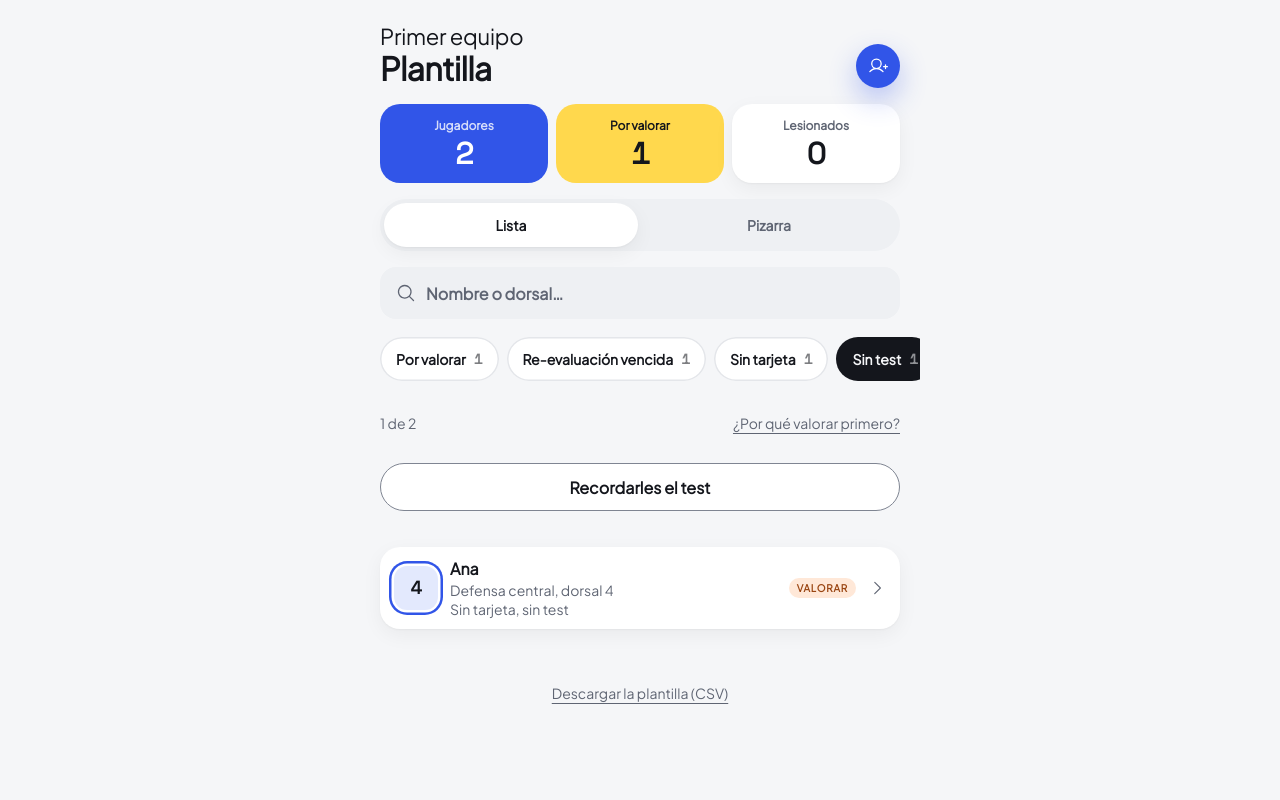
Test case: SquadPage › con el filtro "Sin test", el cuerpo técnico se lo recuerda a los que faltan
Click the button "Recordarles el test".
click(640, 487)  # box x1=380 y1=463 x2=900 y2=511
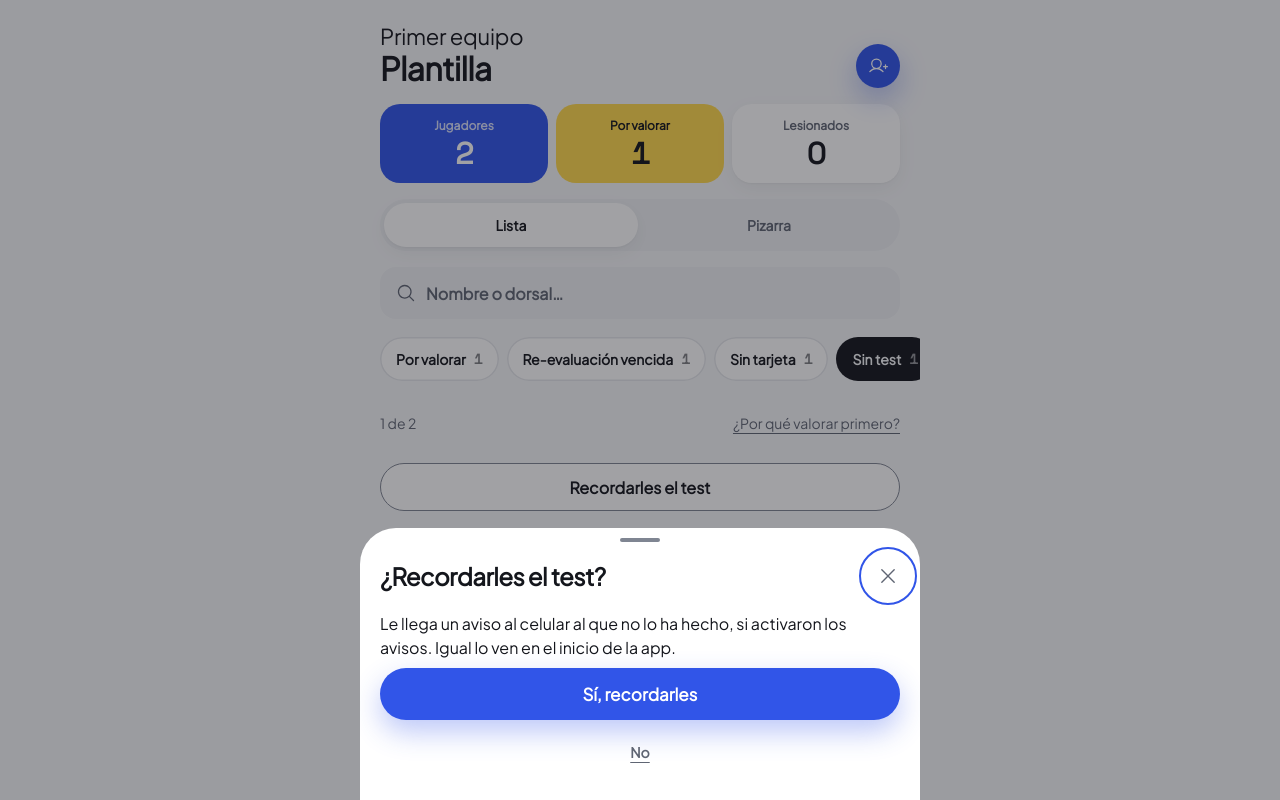
Result: the text "Le llega un aviso al celular al que no lo ha hecho" is shown at x1=380 y1=612 x2=900 y2=660
Click the button "Sí, recordarles".
click(640, 694)  # box x1=380 y1=668 x2=900 y2=720
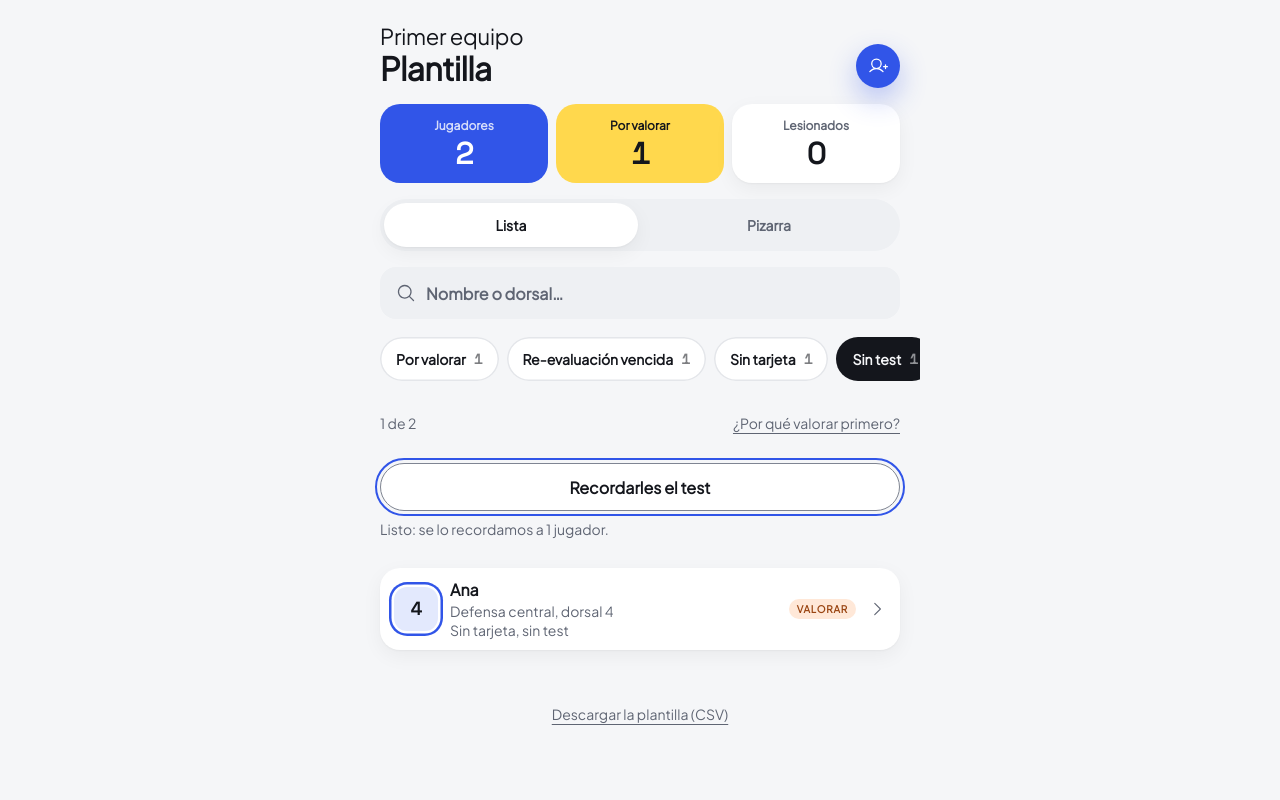
Result: the text "Listo: se lo recordamos a 1 jugador." is shown at x1=380 y1=520 x2=609 y2=538
